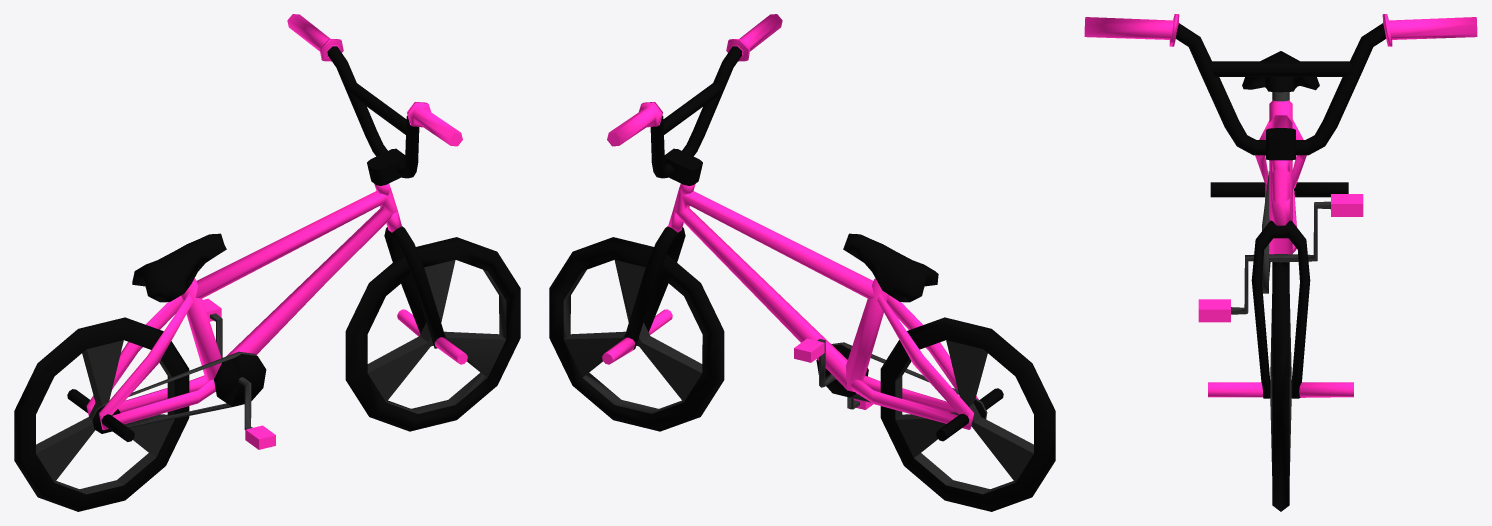
File: BicycleBmxPegsPink.glb
3 views of the same model, side by side, from view 1: azimuth 30°, elevation 25°; view 2: azimuth 150°, elevation 25°; view 3: azimuth 270°, elevation 25° (orthographic). The views are drawn at different scales.
Visible parts, largest first — view 1: BicycleBmxPegsPink; view 2: BicycleBmxPegsPink; view 3: BicycleBmxPegsPink.
Part boxes in pixels (x1,y1,x2,y2): BicycleBmxPegsPink: [14, 14, 520, 511]; BicycleBmxPegsPink: [549, 14, 1055, 511]; BicycleBmxPegsPink: [1084, 14, 1477, 511].
Bounding box in the file's own units: 1.84 × 1.28 × 1.02.
Materials: 1 (1 with a texture image).
